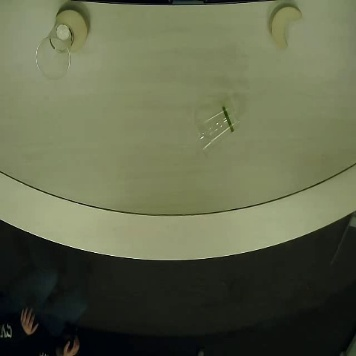empty_cup: (198, 94, 242, 155), (36, 20, 76, 81)
puck: (268, 1, 304, 57), (55, 4, 92, 55)
